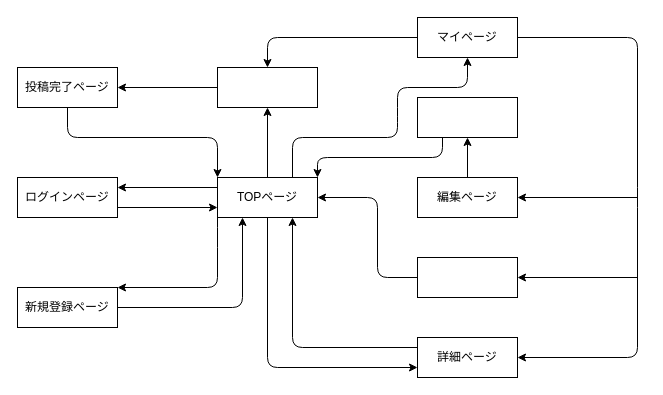
The diagram is 663 pixels wide and 395 high, and some of its shapes have lost their labels. The shapes that lost their labels are listed below. From the top down, each one's centre as x and y in pixels, then its label:
At point 267,87: "新規投稿ページ".
At point 467,117: "編集完了ページ".
At point 467,277: "削除完了ページ".
